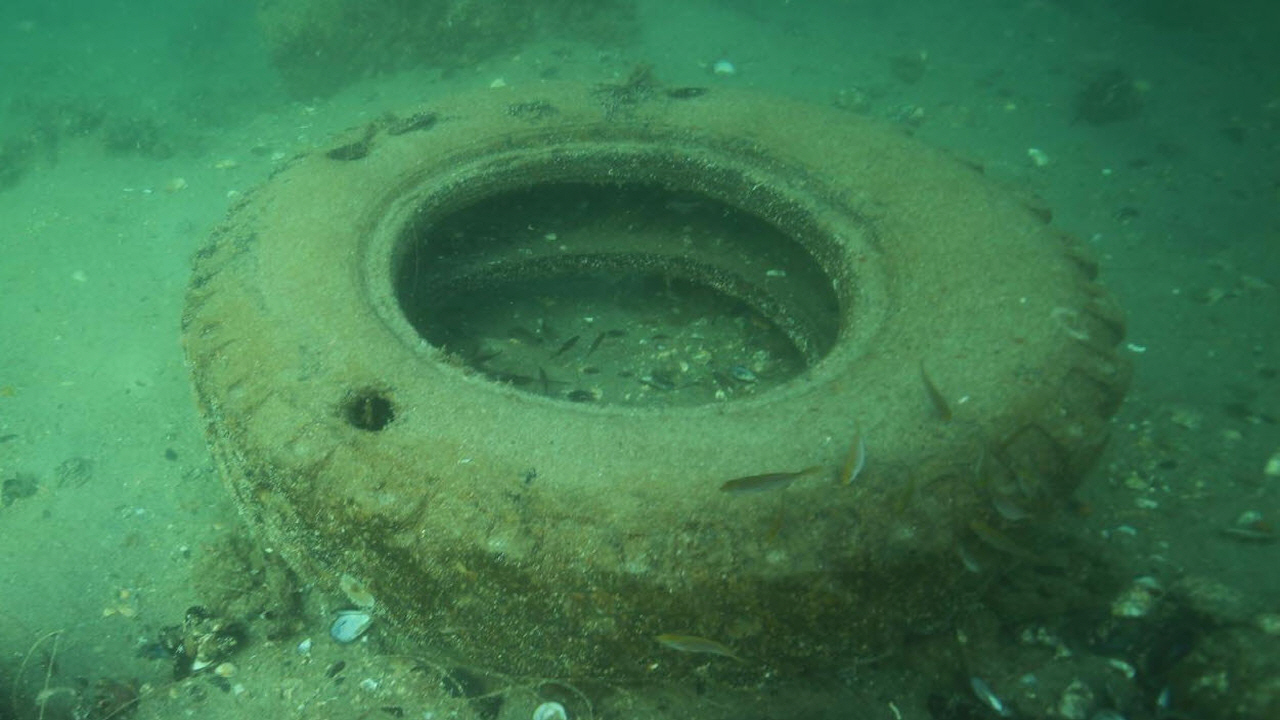tire: (178, 78, 1132, 690)
